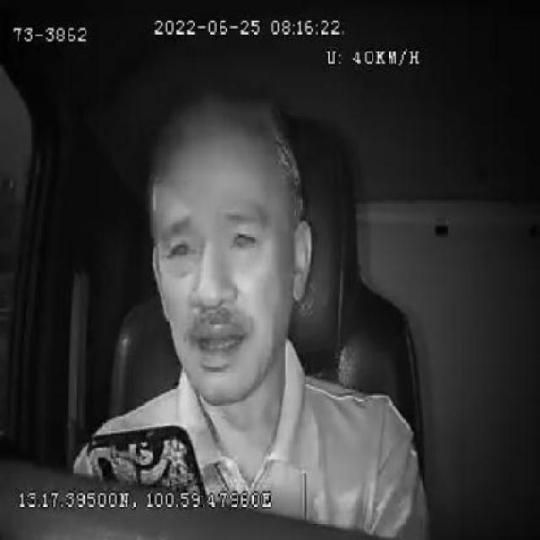phone: (86, 423, 208, 495)
